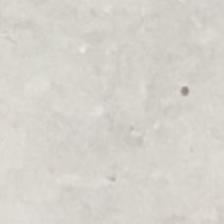Non_Crack: (22, 21, 202, 178)
